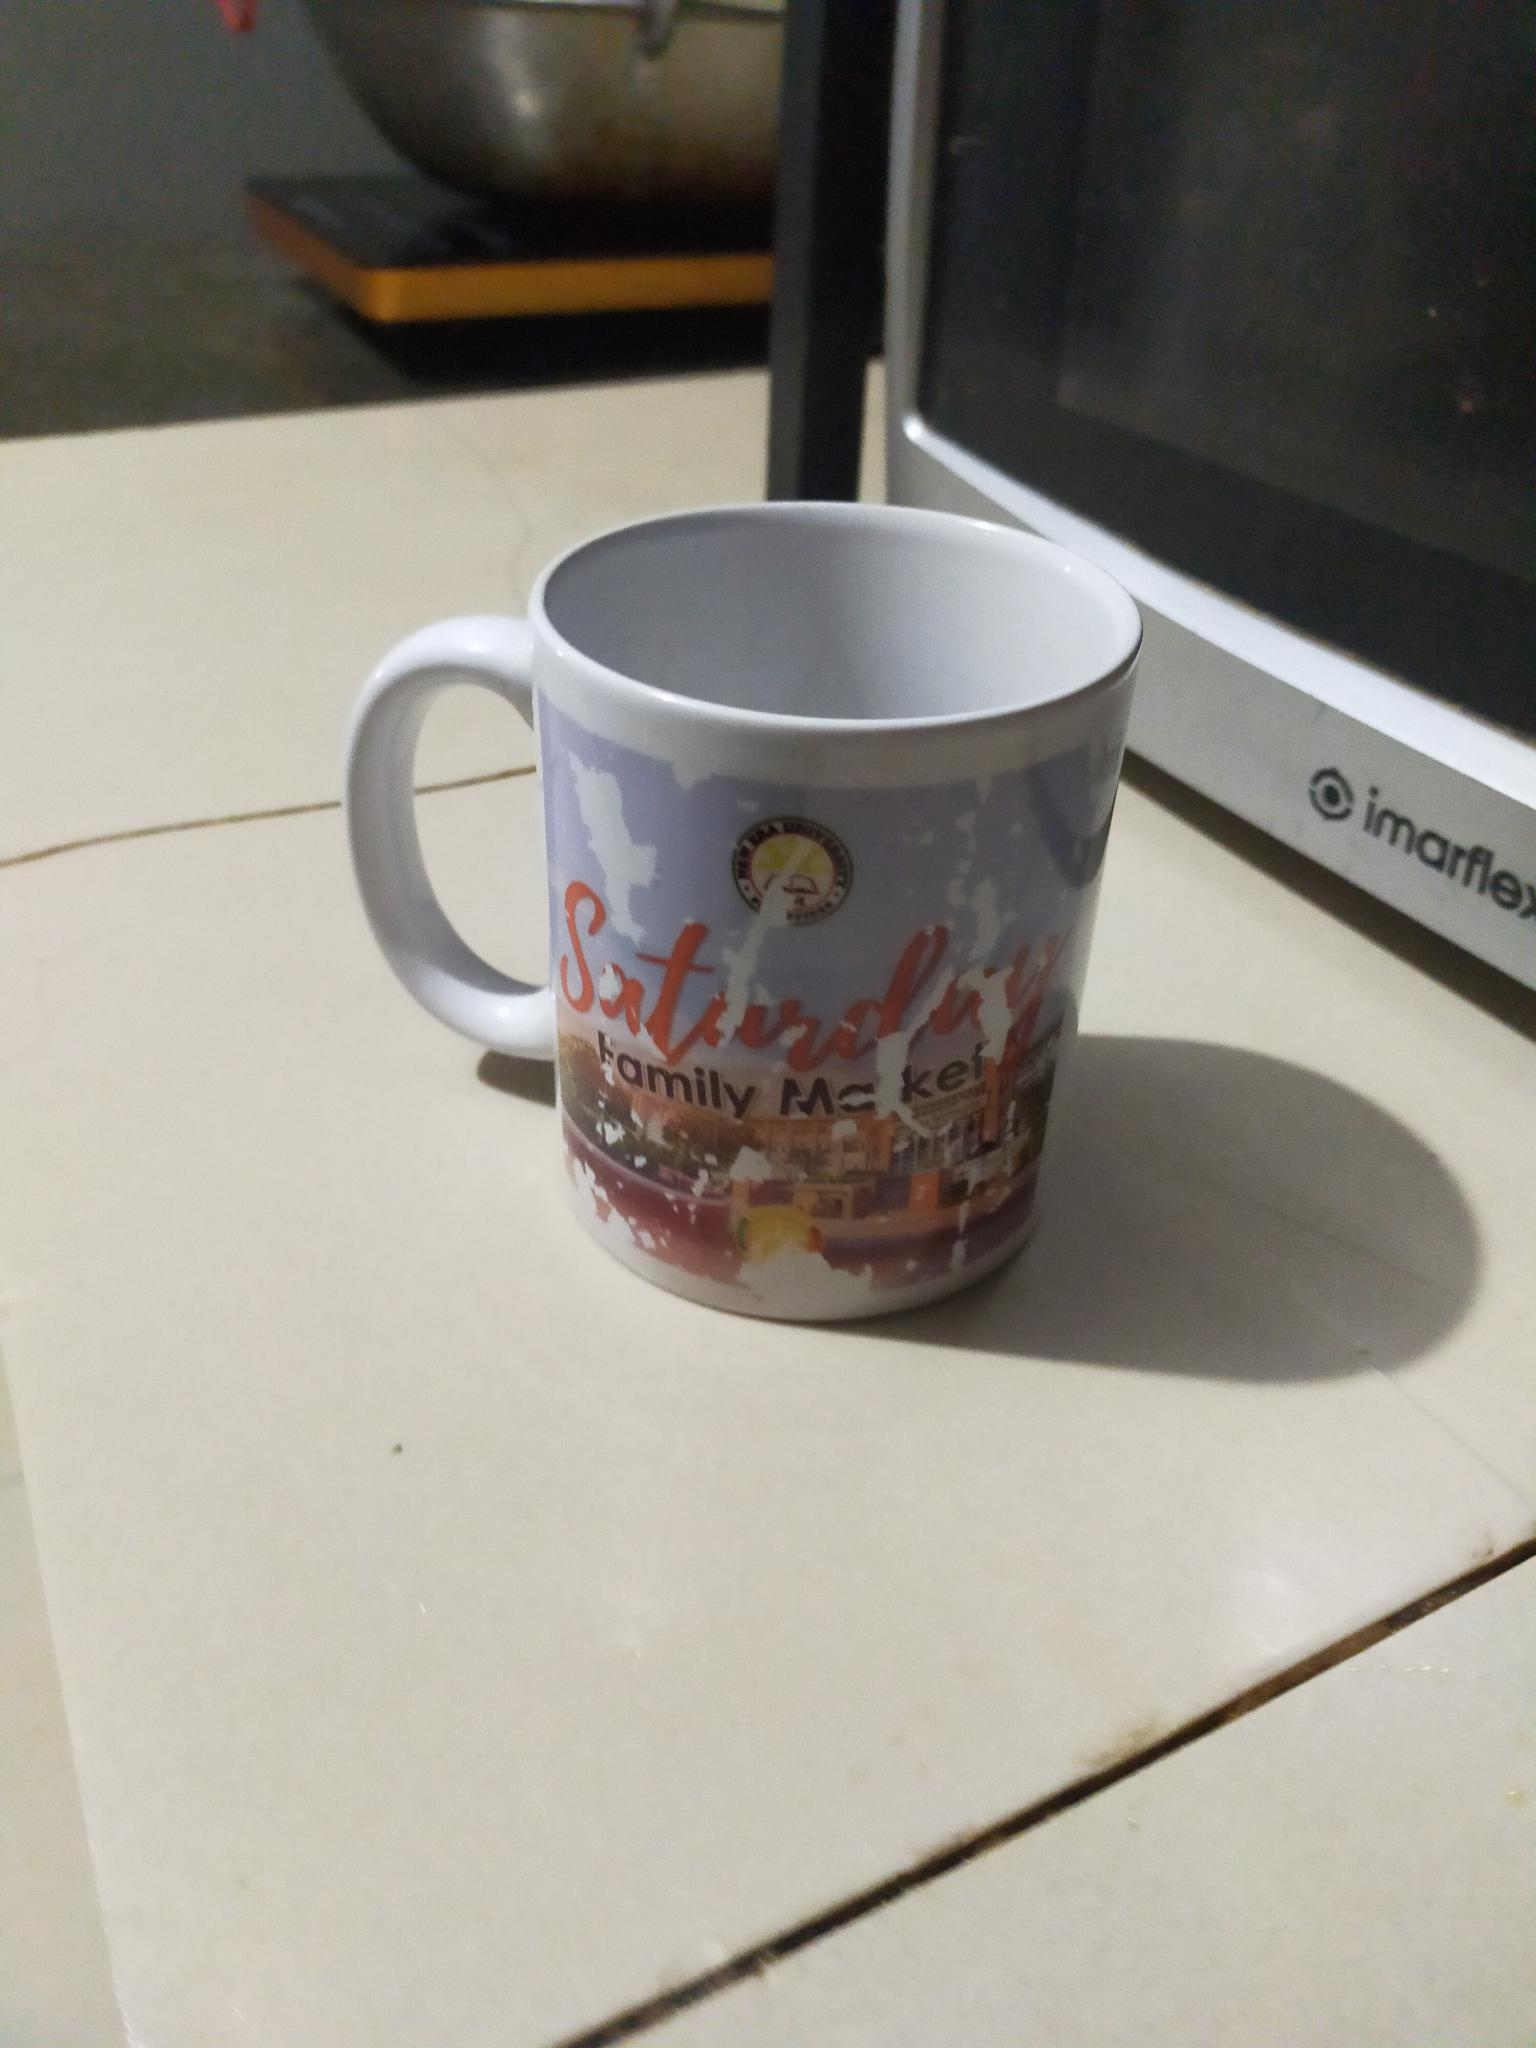Coffee Mug: (332, 498, 1141, 1322)
